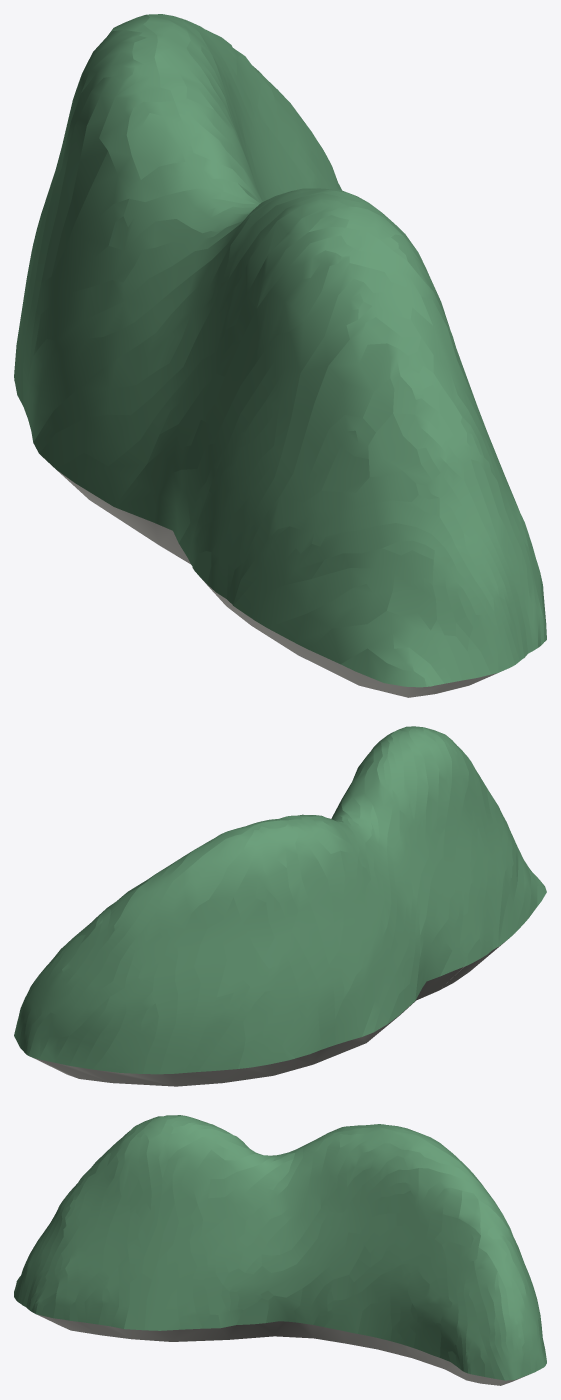
Rendered from island_asian_P.fbx.
3 renders of one model, top to bottom at view 1: azimuth 30°, elevation 25°; view 2: azimuth 150°, elevation 25°; view 3: azimuth 270°, elevation 25°, orthographic. The views are drawn at different scales.
Parts seen in each view (by area): view 1: island_asian_P; view 2: island_asian_P; view 3: island_asian_P.
Part boxes in pixels (<box>): island_asian_P: <box>14,14,546,697</box>; island_asian_P: <box>14,726,546,1086</box>; island_asian_P: <box>14,1115,546,1385</box>.
Size of the model in its own units: 4174 by 3343 by 8133.
